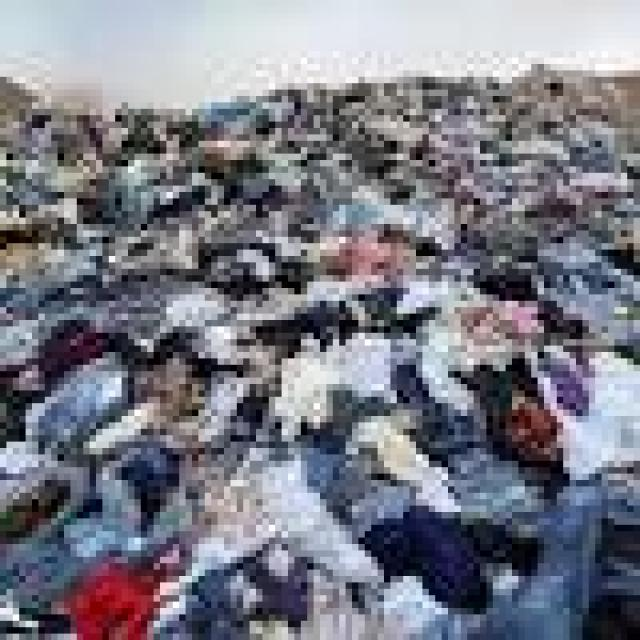Clothes -Biodegradable-: (0, 72, 640, 640)
